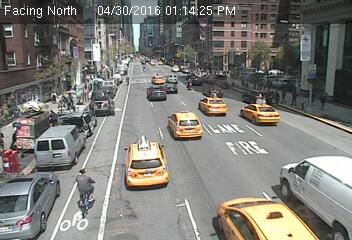neg: (76, 159, 108, 202), (197, 22, 225, 58), (134, 155, 160, 190), (75, 6, 101, 40), (192, 178, 216, 211), (19, 195, 42, 227), (24, 67, 47, 98), (136, 98, 157, 127), (45, 6, 66, 34), (171, 119, 190, 145), (17, 154, 35, 178), (296, 41, 313, 65), (48, 65, 64, 86), (116, 74, 131, 95), (16, 111, 31, 130), (112, 9, 127, 28), (99, 105, 113, 125), (142, 2, 156, 20), (177, 8, 191, 26), (111, 40, 123, 56), (76, 54, 88, 69), (145, 33, 156, 47), (319, 66, 329, 80)
pos: (273, 83, 293, 110), (288, 86, 304, 108), (317, 90, 332, 111), (236, 71, 251, 91), (49, 90, 60, 105), (246, 78, 254, 88), (140, 63, 147, 73)
